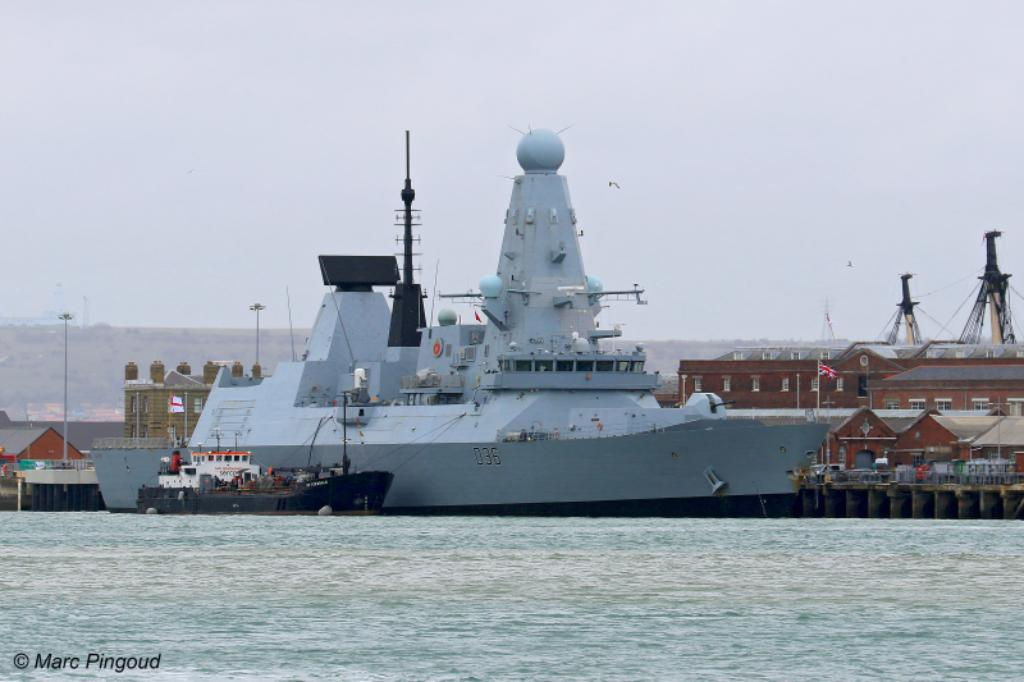Warship: (92, 124, 854, 512)
